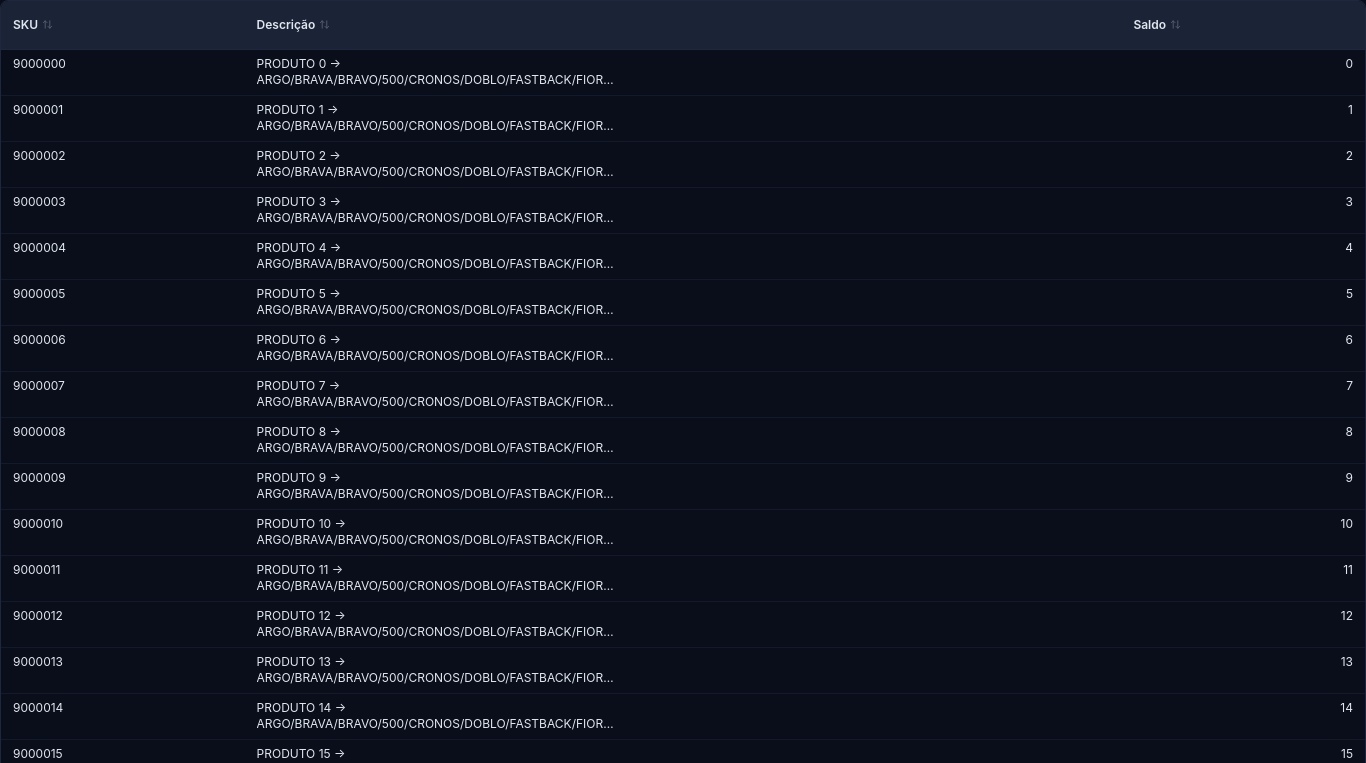
Scenario: ReportTable — rolagem virtual › ordenação continua funcionando com virtualização
The width and height of the screenshot is (1366, 763).
Click the text "Saldo" at (1157, 24), box [1133, 17, 1181, 32]
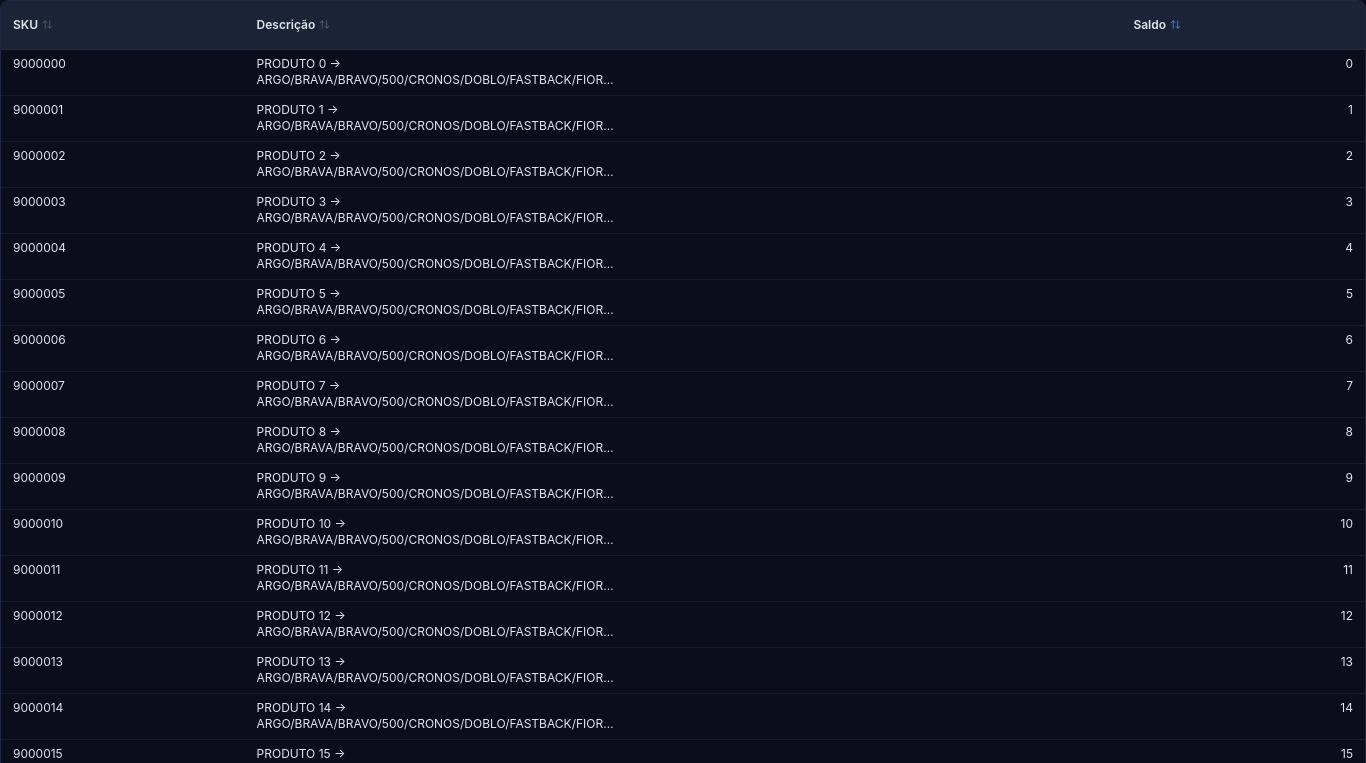
Click the text "Saldo" at (1157, 24), box [1133, 17, 1181, 32]
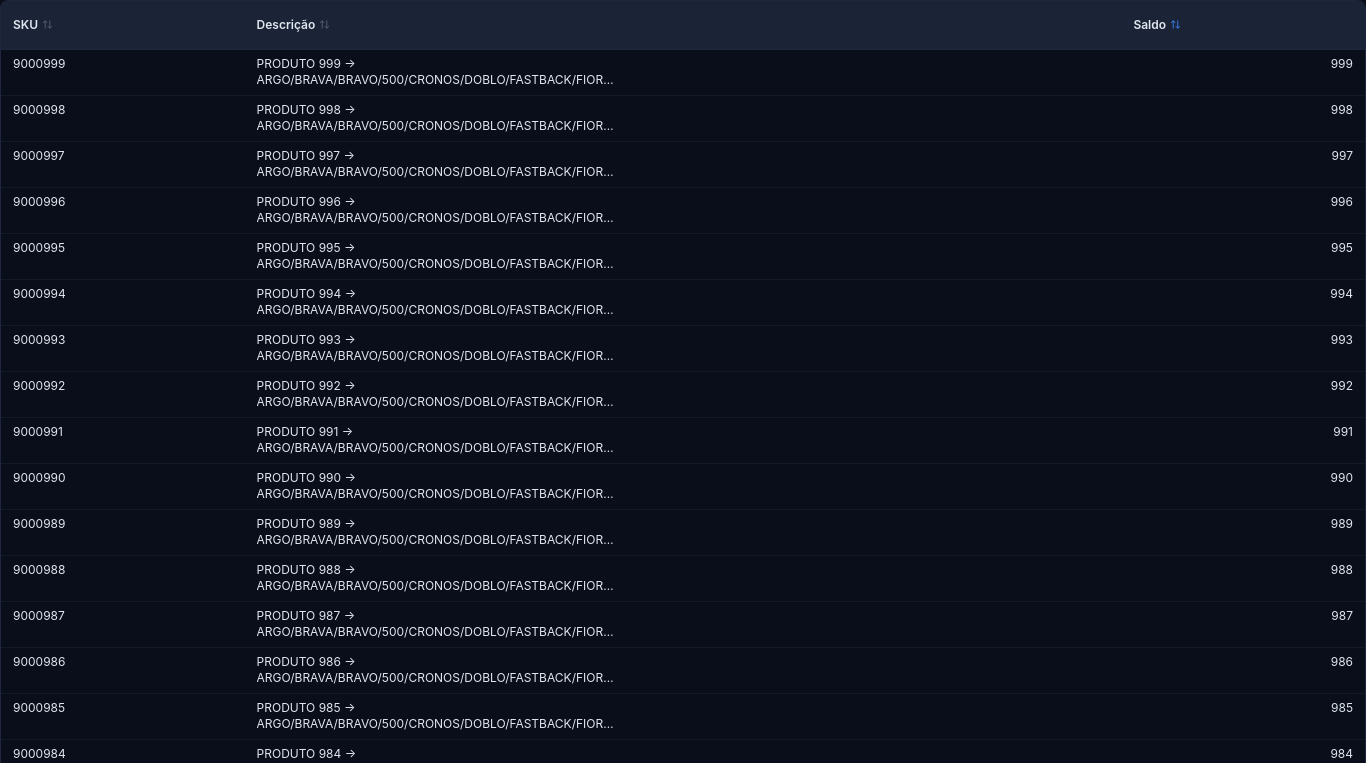
expect the cell "999" is shown: met, box [1121, 49, 1365, 95]
